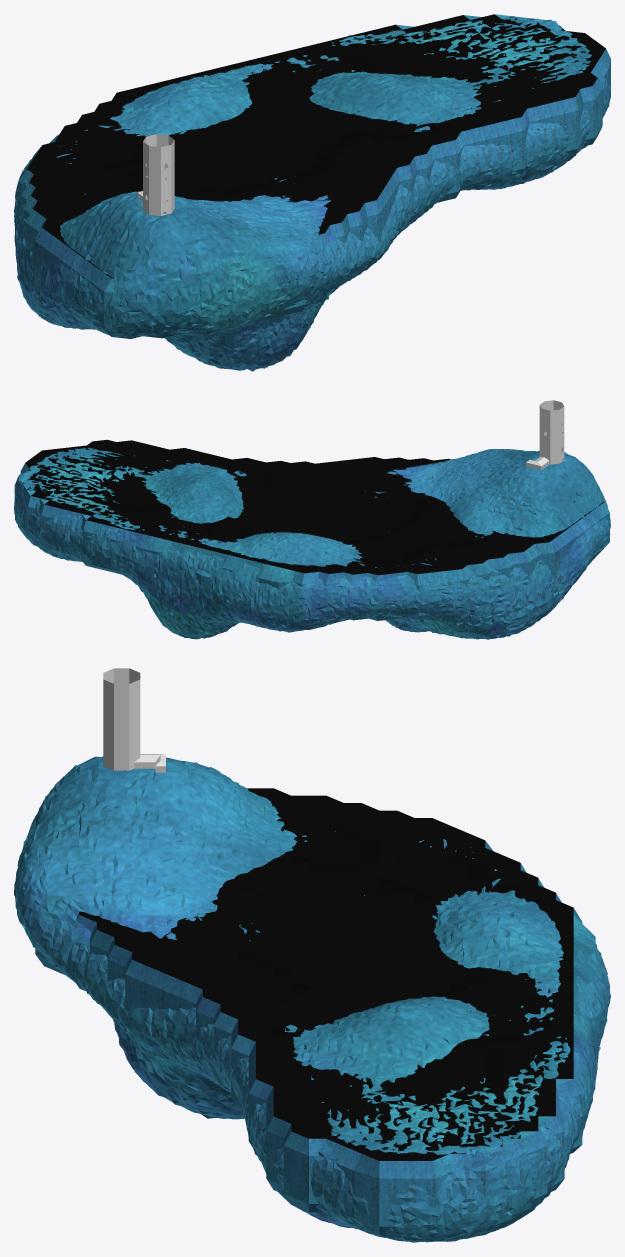
The model's file is temp island 3.fbx.
3 renders of one model, top to bottom at view 1: azimuth 30°, elevation 25°; view 2: azimuth 150°, elevation 25°; view 3: azimuth 270°, elevation 25°, orthographic. The views are drawn at different scales.
Visible parts, largest first — view 1: plane_1, plane, exterior skin; view 2: plane_1, plane, exterior skin; view 3: plane, plane_1, exterior skin.
Part boxes in pixels (<box>): plane_1: <box>14,17,610,371</box>; plane: <box>18,14,610,338</box>; exterior skin: <box>137,134,174,215</box>; plane_1: <box>14,447,610,639</box>; plane: <box>14,439,609,620</box>; exterior skin: <box>525,400,564,469</box>; plane: <box>35,788,600,1234</box>; plane_1: <box>14,756,610,1242</box>; exterior skin: <box>103,668,165,772</box>.
Size of the model in its own units: 51783 by 22356 by 33826.
